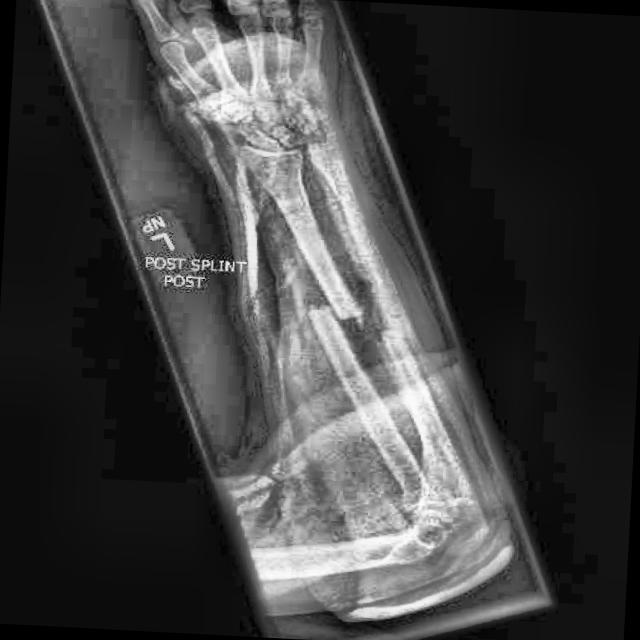forearm fracture: (295, 270, 377, 366)
